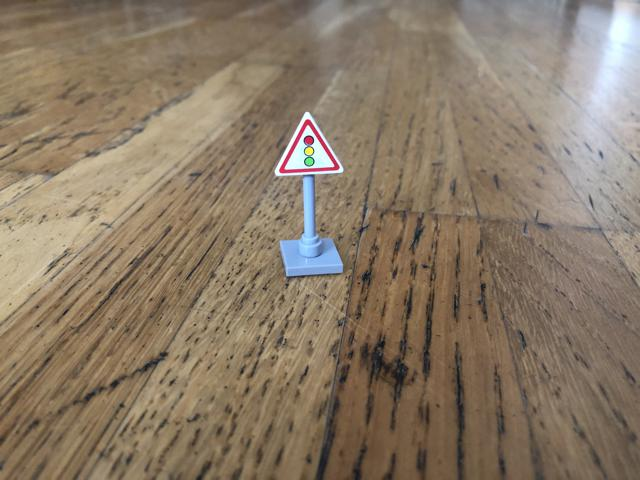lichtzeichenanlage: (271, 113, 345, 179)
